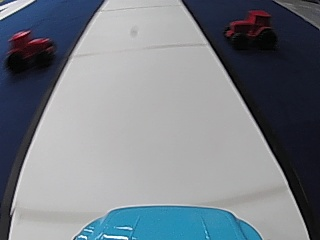tractor: (222, 8, 276, 51), (3, 28, 54, 72)
